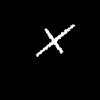single_crochet: (37, 25, 74, 56)
